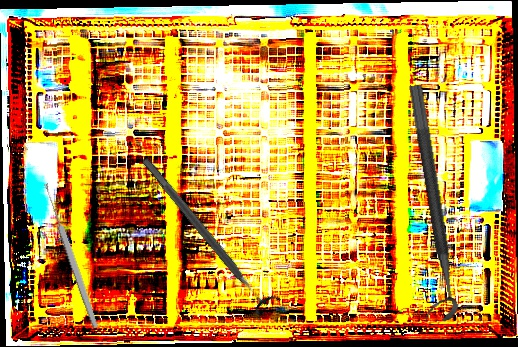Fixation Ring: (132, 148, 283, 320), (388, 84, 461, 324)
Surgical Spoon: (42, 182, 100, 329)
